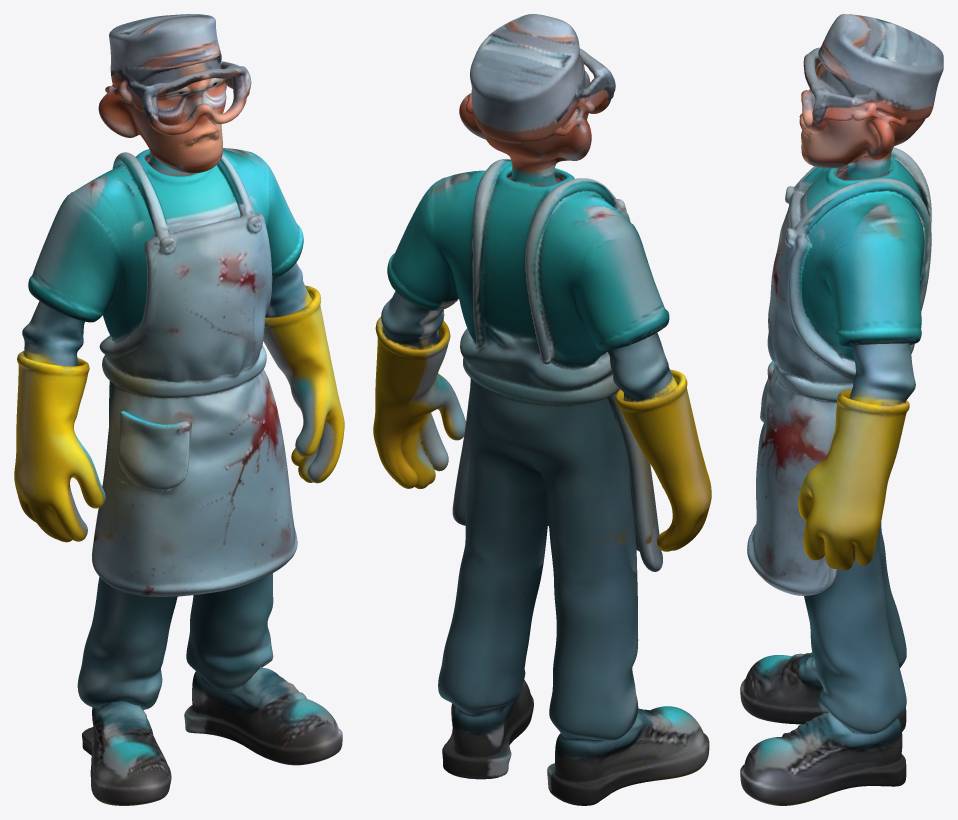
Rendered from rzeznik.glb.
3 views of the same model, side by side, from view 1: azimuth 30°, elevation 25°; view 2: azimuth 150°, elevation 25°; view 3: azimuth 270°, elevation 25° (orthographic). The views are drawn at different scales.
Parts seen in each view (by area): view 1: tripo_node_723113f3-9fec-4892-ae77-6319c399cc98; view 2: tripo_node_723113f3-9fec-4892-ae77-6319c399cc98; view 3: tripo_node_723113f3-9fec-4892-ae77-6319c399cc98.
Part boxes in pixels (x1=…): tripo_node_723113f3-9fec-4892-ae77-6319c399cc98: x1=14, y1=14, x2=344, y2=805; tripo_node_723113f3-9fec-4892-ae77-6319c399cc98: x1=373, y1=14, x2=711, y2=805; tripo_node_723113f3-9fec-4892-ae77-6319c399cc98: x1=740, y1=14, x2=943, y2=805.
Bounding box in the file's own units: 0.4501 × 1 × 0.2523.
1 material, 1 textured.
